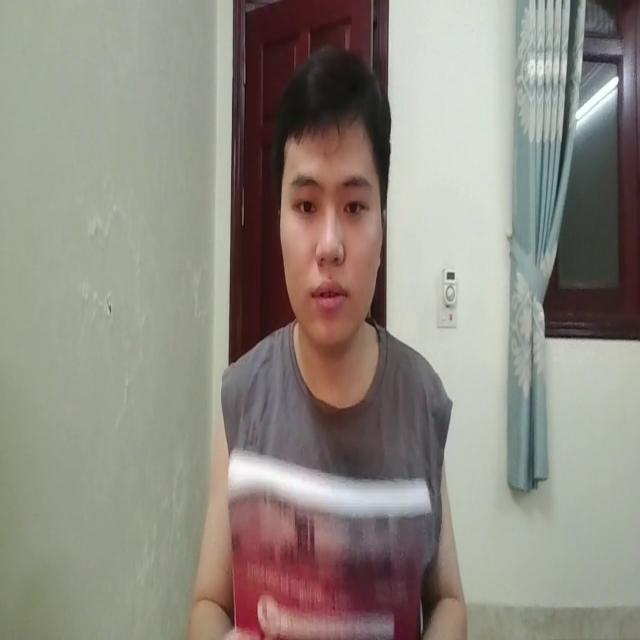book: (227, 450, 438, 640)
student: (188, 37, 470, 640)
